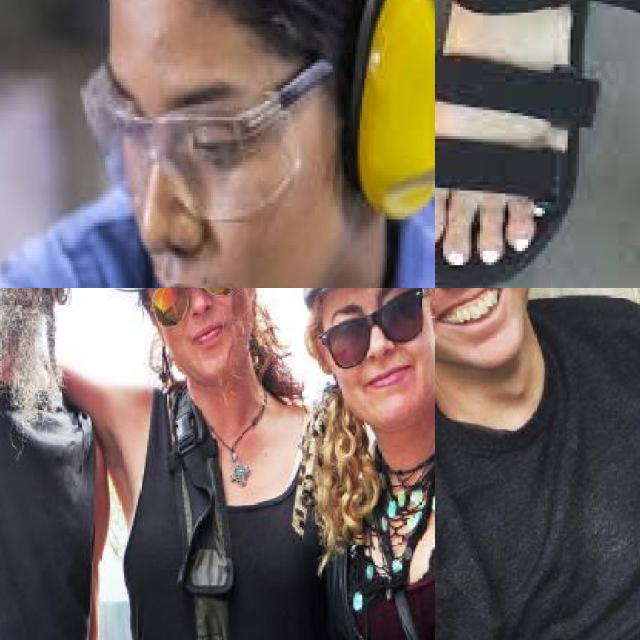Ear-protection: (233, 0, 435, 217)
Sandals: (435, 0, 622, 288)
face_nomask: (323, 289, 435, 407), (150, 288, 243, 349)
glasses: (76, 57, 316, 225), (322, 288, 428, 367), (142, 288, 242, 325)
person: (70, 288, 308, 640), (435, 288, 640, 640), (287, 288, 435, 640), (0, 288, 128, 640)
